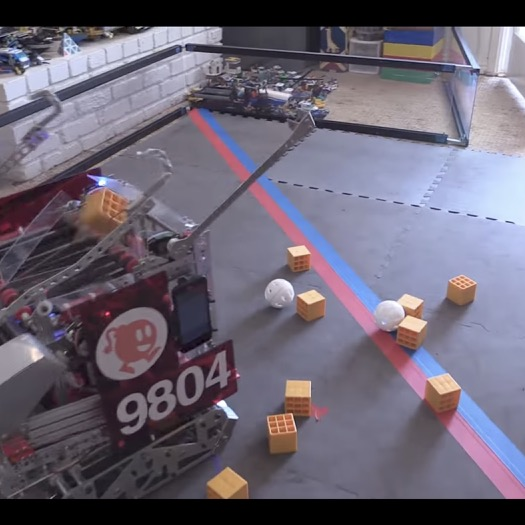robot: (0, 87, 240, 498)
